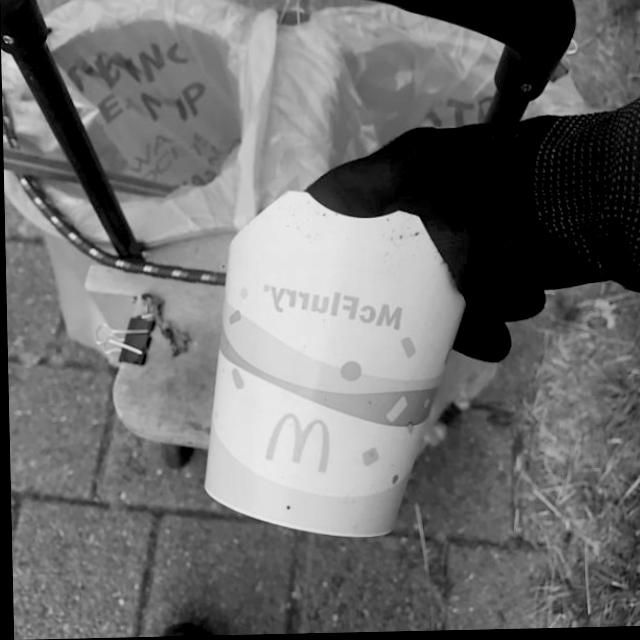Paper: (195, 187, 471, 548)
